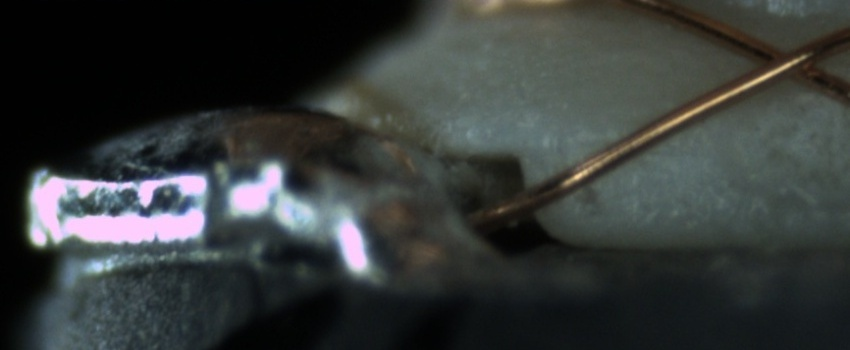CL: (728, 28, 836, 93)
DL: (553, 112, 703, 174)
